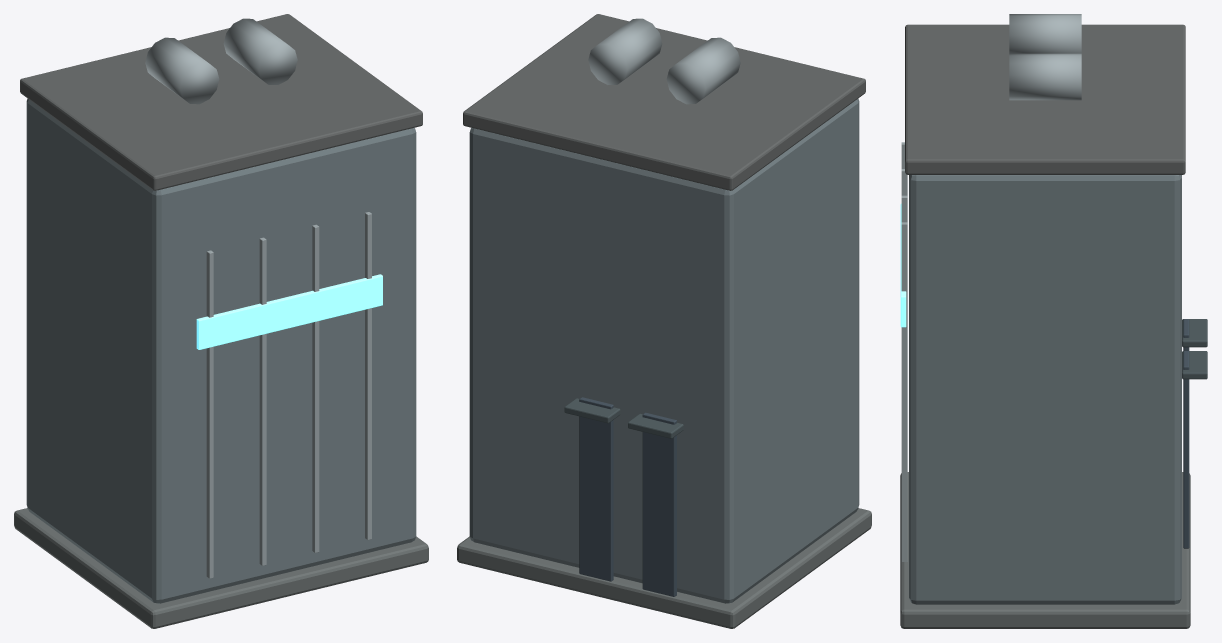
The model's file is industrial_processing_plant.glb.
3 renders of one model, left to right at view 1: azimuth 30°, elevation 25°; view 2: azimuth 150°, elevation 25°; view 3: azimuth 270°, elevation 25°, orthographic. The views are drawn at different scales.
Visible parts, largest first — view 1: main_massing, roof_slab, foundation, industrial_window_strip, process_tank.001, process_tank, cladding_rib.001, cladding_rib.002, cladding_rib, cladding_rib.003; view 2: main_massing, roof_slab, foundation, loading_door.001, loading_door, process_tank.001, process_tank, loading_canopy.001, loading_canopy; view 3: main_massing, roof_slab, foundation, process_tank.001, process_tank, cladding_rib.003, loading_door.001, loading_canopy, loading_canopy.001.
Boxes of the visible parts, x1,y1,x2,y2 form: main_massing: (26, 98, 416, 603); roof_slab: (20, 14, 422, 190); foundation: (14, 508, 428, 628); industrial_window_strip: (196, 274, 382, 349); process_tank.001: (223, 18, 297, 84); process_tank: (145, 37, 219, 104); cladding_rib.001: (259, 237, 266, 565); cladding_rib.002: (312, 224, 319, 552); cladding_rib: (206, 250, 213, 578); cladding_rib.003: (365, 212, 371, 539); main_massing: (469, 98, 859, 603); roof_slab: (463, 14, 865, 190); foundation: (457, 508, 871, 628); loading_door.001: (579, 397, 613, 581); loading_door: (642, 412, 676, 596); process_tank.001: (588, 18, 662, 84); process_tank: (666, 37, 740, 104); loading_canopy.001: (564, 398, 620, 423); loading_canopy: (628, 413, 683, 438); main_massing: (909, 175, 1181, 604); roof_slab: (905, 24, 1185, 174); foundation: (900, 472, 1190, 628); process_tank.001: (1009, 53, 1081, 100); process_tank: (1009, 14, 1081, 53); cladding_rib.003: (901, 222, 907, 561); loading_door.001: (1183, 351, 1189, 548); loading_canopy: (1182, 319, 1207, 347); loading_canopy.001: (1182, 351, 1207, 379).
Size of the model in its own units: 1.56 by 2.71 by 1.44.
